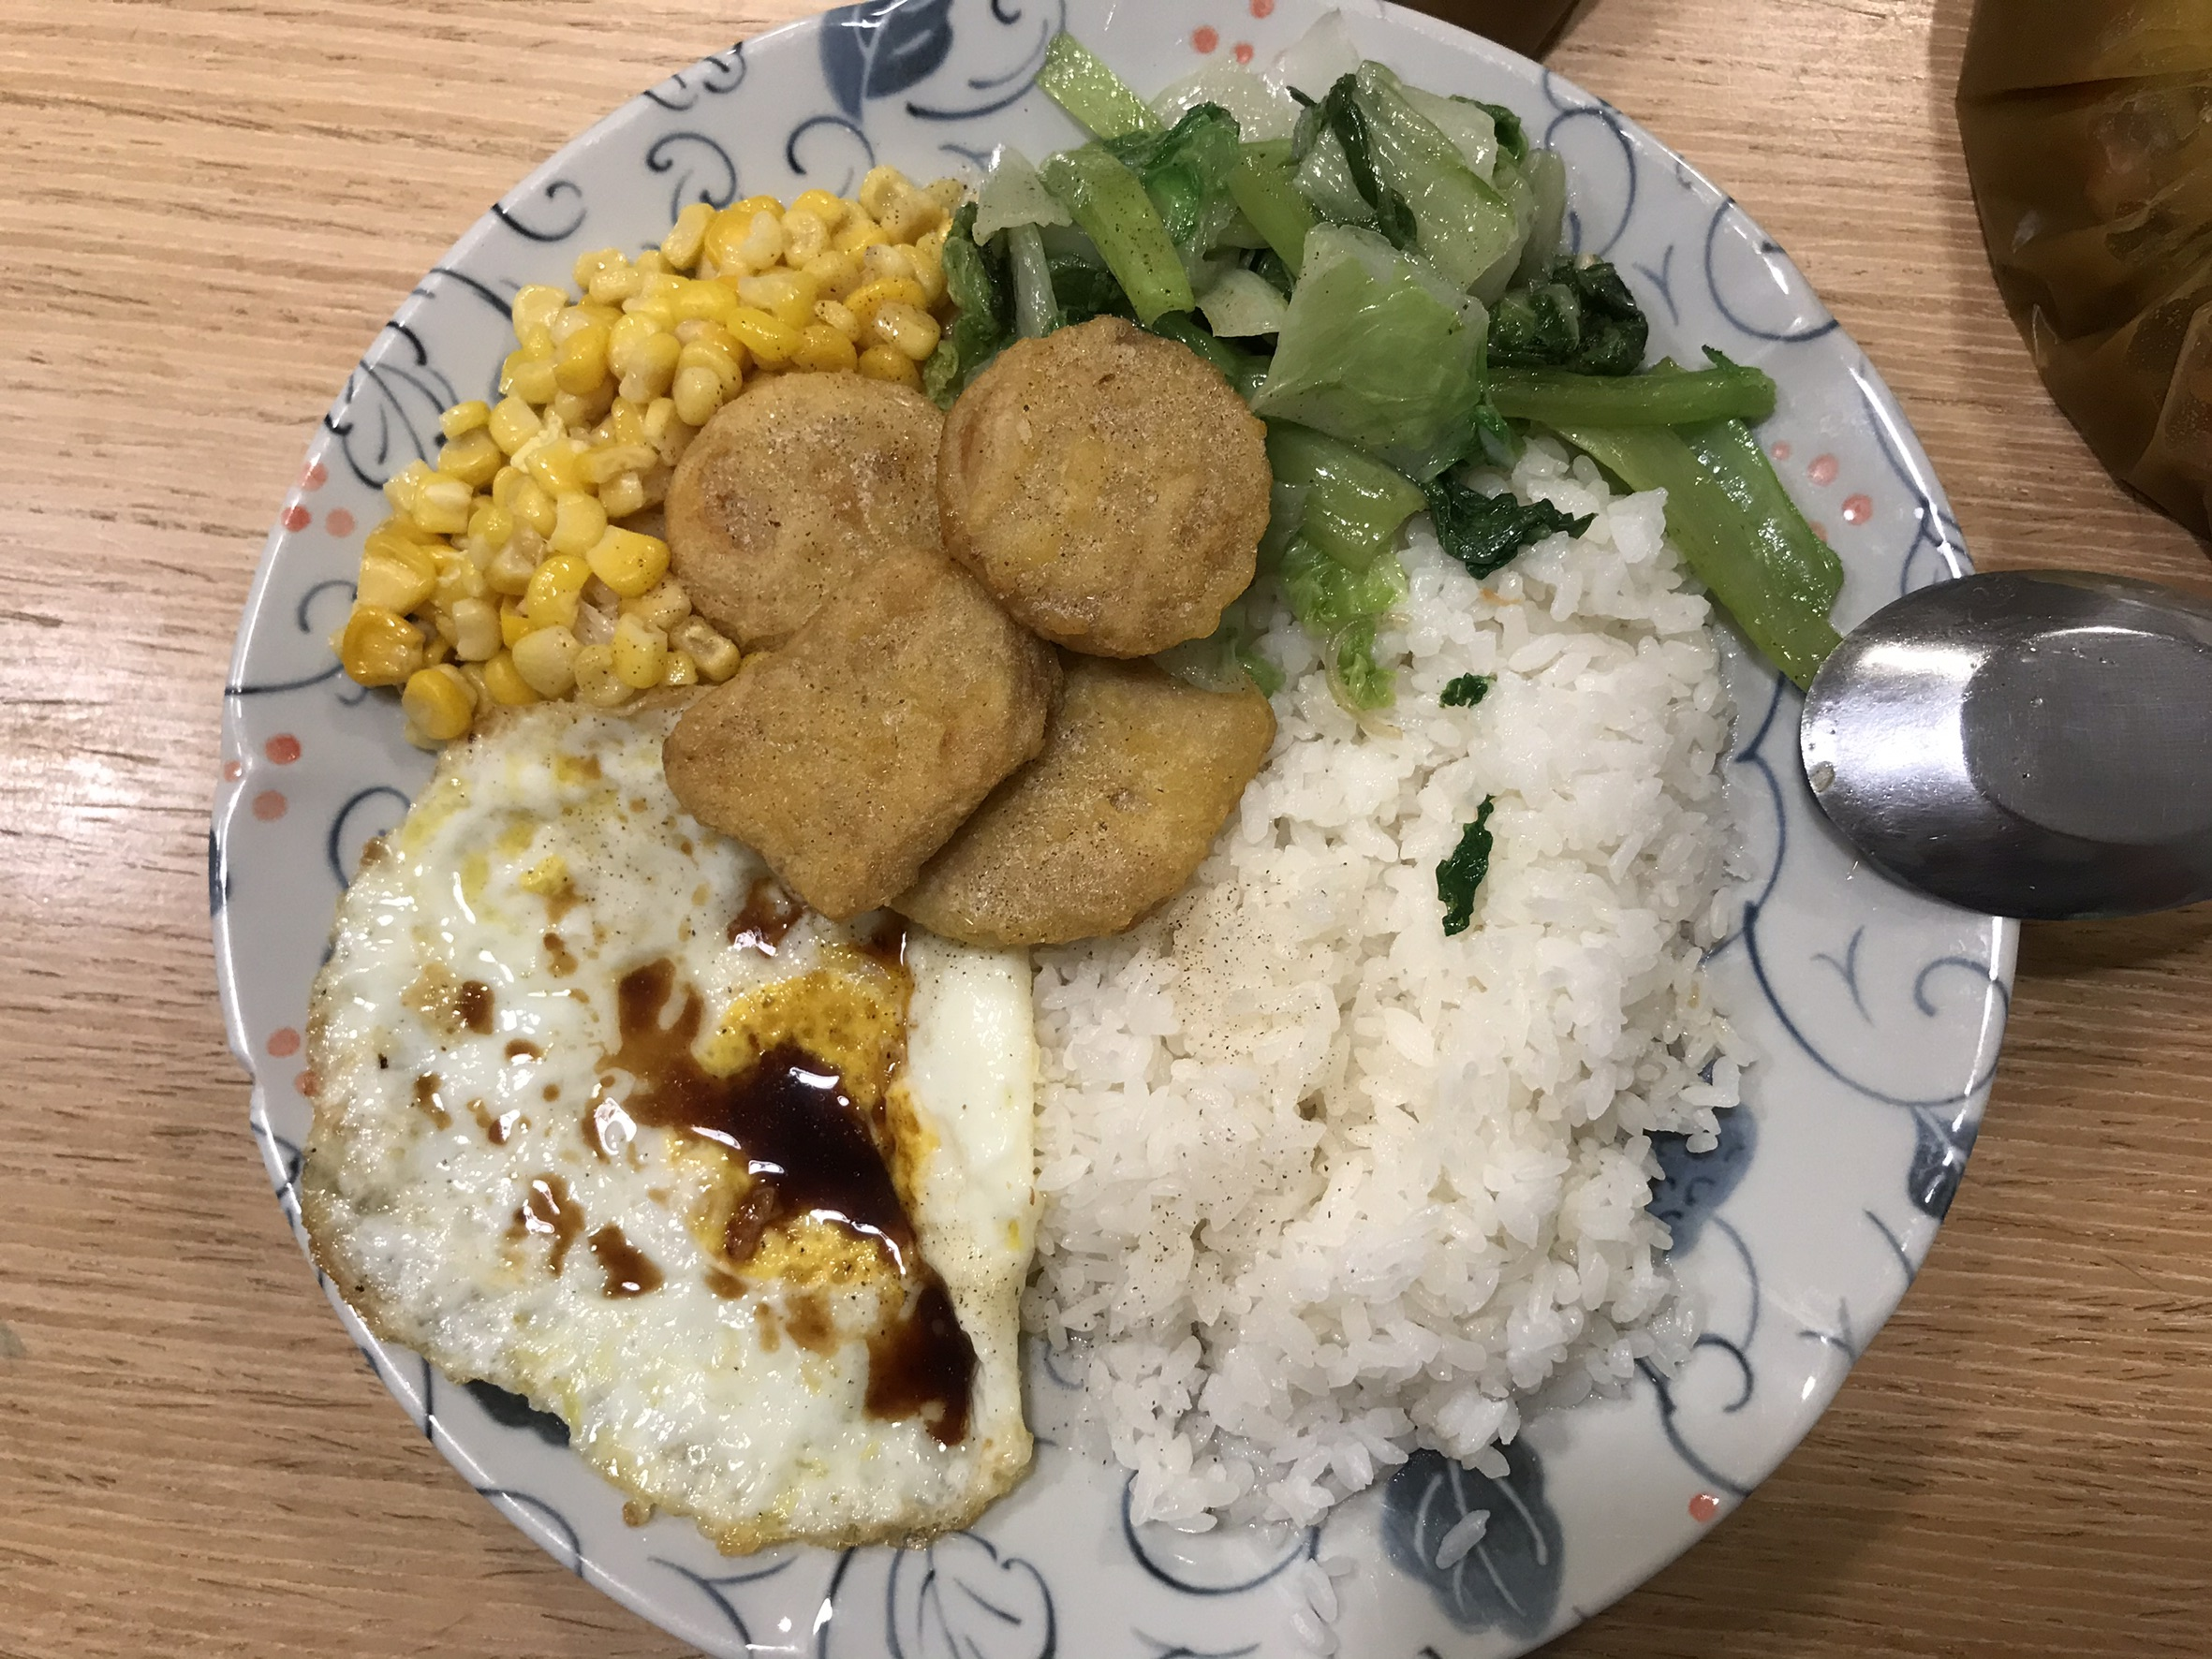chicken_nuggets: (669, 319, 1278, 948)
fried_eggs: (303, 699, 1039, 1546)
rice: (1039, 694, 1740, 1509)
